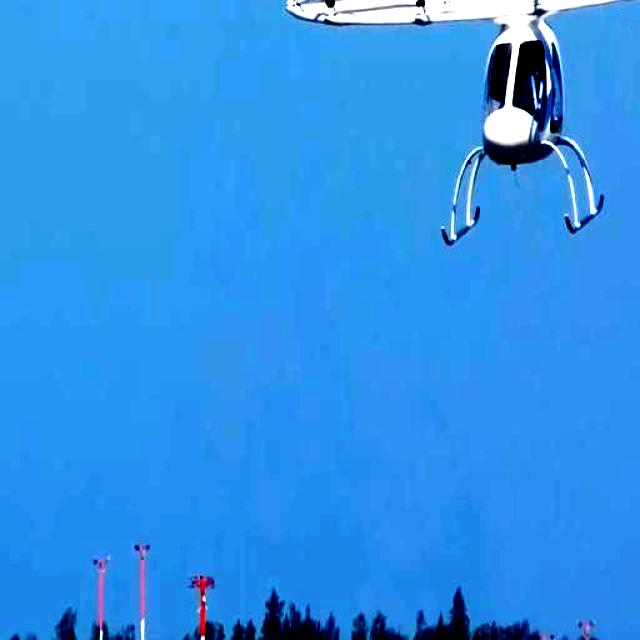drone: (272, 0, 640, 251)
